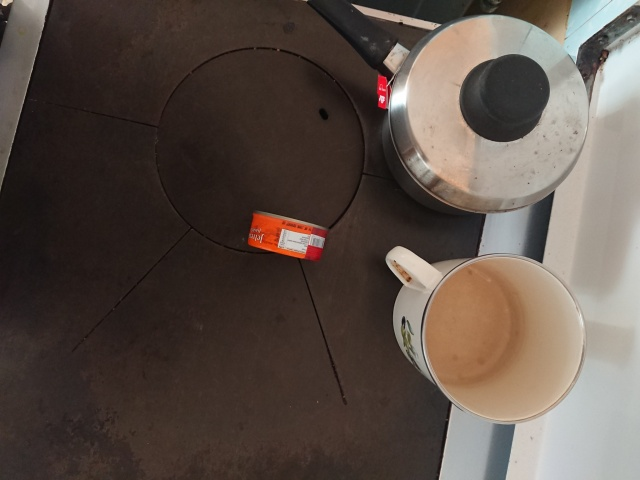Gavrilovic Pork Liver Pate 100g: (245, 207, 332, 264)
